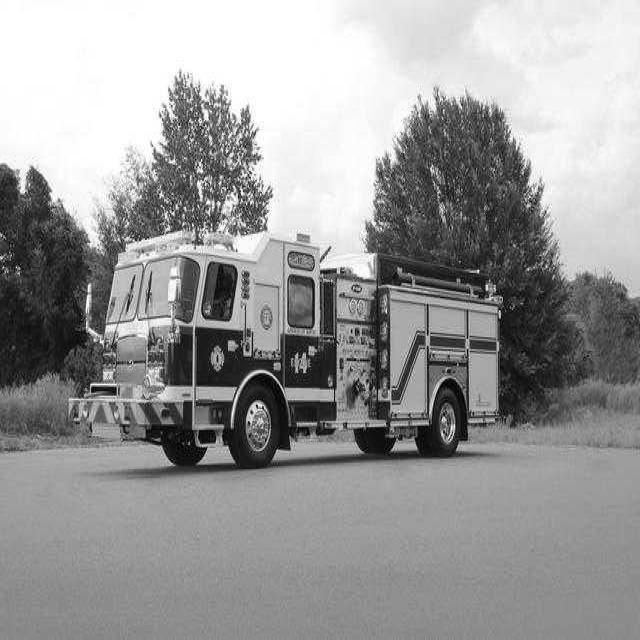Truck: (71, 232, 500, 466)
